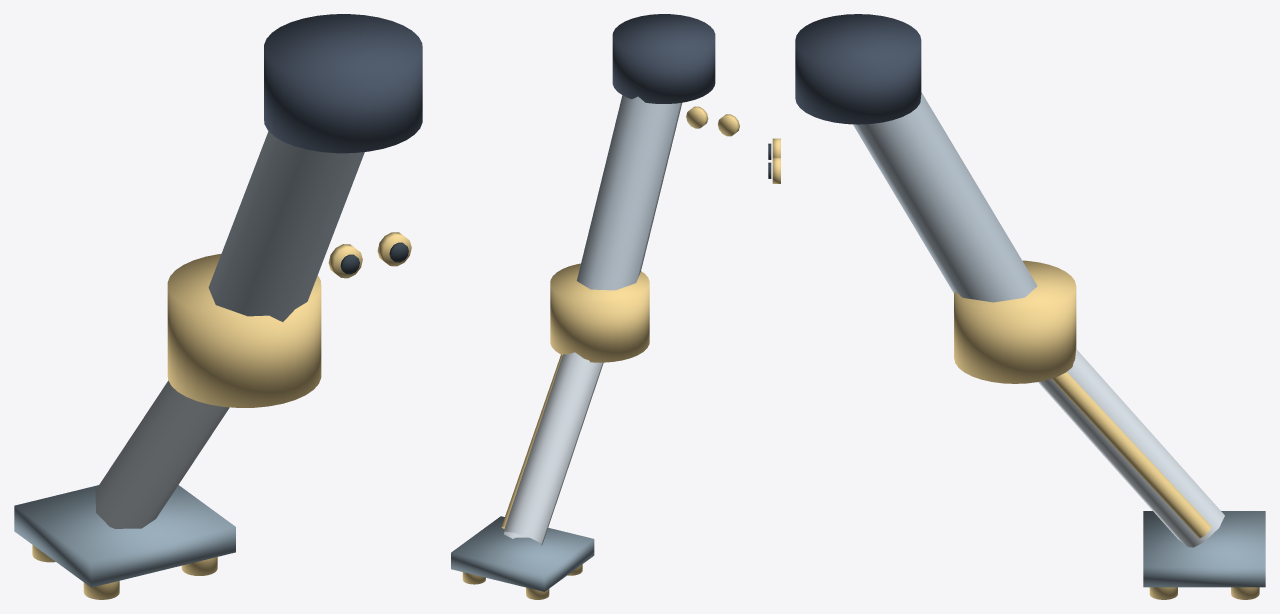
File: 21_L92_ArticulatedLandingLegD.fbx
3 views of the same model, side by side, from view 1: azimuth 30°, elevation 25°; view 2: azimuth 150°, elevation 25°; view 3: azimuth 270°, elevation 25° (orthographic). The views are drawn at different scales.
Visible parts, largest first — view 1: L92_ArticulatedLandingLegD_Part_0002, L92_ArticulatedLandingLegD_Part_0000, L92_ArticulatedLandingLegD_Part_0003, L92_ArticulatedLandingLegD_Part_0005, L92_ArticulatedLandingLegD_Part_0004, L92_ArticulatedLandingLegD_Part_0006, L92_ArticulatedLandingLegD_Part_0009, L92_ArticulatedLandingLegD_Part_0007; view 2: L92_ArticulatedLandingLegD_Part_0000, L92_ArticulatedLandingLegD_Part_0002, L92_ArticulatedLandingLegD_Part_0003, L92_ArticulatedLandingLegD_Part_0004, L92_ArticulatedLandingLegD_Part_0005, L92_ArticulatedLandingLegD_Part_0006; view 3: L92_ArticulatedLandingLegD_Part_0000, L92_ArticulatedLandingLegD_Part_0003, L92_ArticulatedLandingLegD_Part_0002, L92_ArticulatedLandingLegD_Part_0005, L92_ArticulatedLandingLegD_Part_0004, L92_ArticulatedLandingLegD_Part_0006.
Part boxes in pixels (x1,y1,x2,y2): L92_ArticulatedLandingLegD_Part_0002: [264, 14, 422, 153]; L92_ArticulatedLandingLegD_Part_0000: [208, 131, 364, 321]; L92_ArticulatedLandingLegD_Part_0003: [167, 254, 321, 407]; L92_ArticulatedLandingLegD_Part_0005: [14, 485, 235, 587]; L92_ArticulatedLandingLegD_Part_0004: [95, 380, 229, 528]; L92_ArticulatedLandingLegD_Part_0006: [32, 545, 217, 599]; L92_ArticulatedLandingLegD_Part_0009: [377, 232, 411, 266]; L92_ArticulatedLandingLegD_Part_0007: [328, 244, 362, 278]; L92_ArticulatedLandingLegD_Part_0000: [577, 95, 681, 290]; L92_ArticulatedLandingLegD_Part_0002: [612, 14, 715, 103]; L92_ArticulatedLandingLegD_Part_0003: [501, 263, 649, 528]; L92_ArticulatedLandingLegD_Part_0004: [503, 352, 603, 545]; L92_ArticulatedLandingLegD_Part_0005: [451, 516, 594, 591]; L92_ArticulatedLandingLegD_Part_0006: [462, 564, 582, 599]; L92_ArticulatedLandingLegD_Part_0000: [853, 92, 1037, 302]; L92_ArticulatedLandingLegD_Part_0003: [954, 260, 1211, 538]; L92_ArticulatedLandingLegD_Part_0002: [795, 14, 921, 124]; L92_ArticulatedLandingLegD_Part_0005: [1143, 511, 1265, 587]; L92_ArticulatedLandingLegD_Part_0004: [1038, 349, 1224, 547]; L92_ArticulatedLandingLegD_Part_0006: [1149, 587, 1259, 599].
Size of the model in its own units: 0.65 by 2.9 by 2.44.
